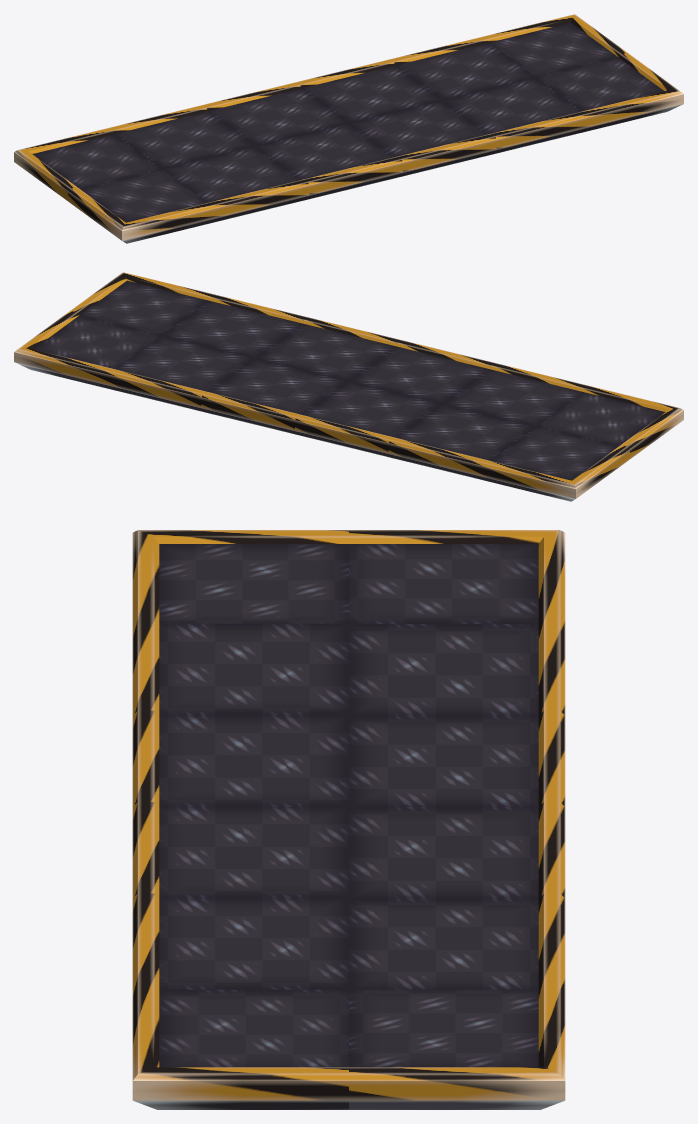
File: LongPlataform.fbx
The picture shows the model from 3 angles, top to bottom: view 1: azimuth 30°, elevation 25°; view 2: azimuth 150°, elevation 25°; view 3: azimuth 270°, elevation 25°; orthographic projection. The views are drawn at different scales.
Parts seen in each view (by area): view 1: LongPlataform; view 2: LongPlataform; view 3: LongPlataform.
Part boxes in pixels (box(x1,y1,x2,y2)): LongPlataform: box(14, 14, 683, 243); LongPlataform: box(14, 272, 683, 501); LongPlataform: box(132, 530, 565, 1109).
Size of the model in its own units: 600 by 33.23 by 200.
